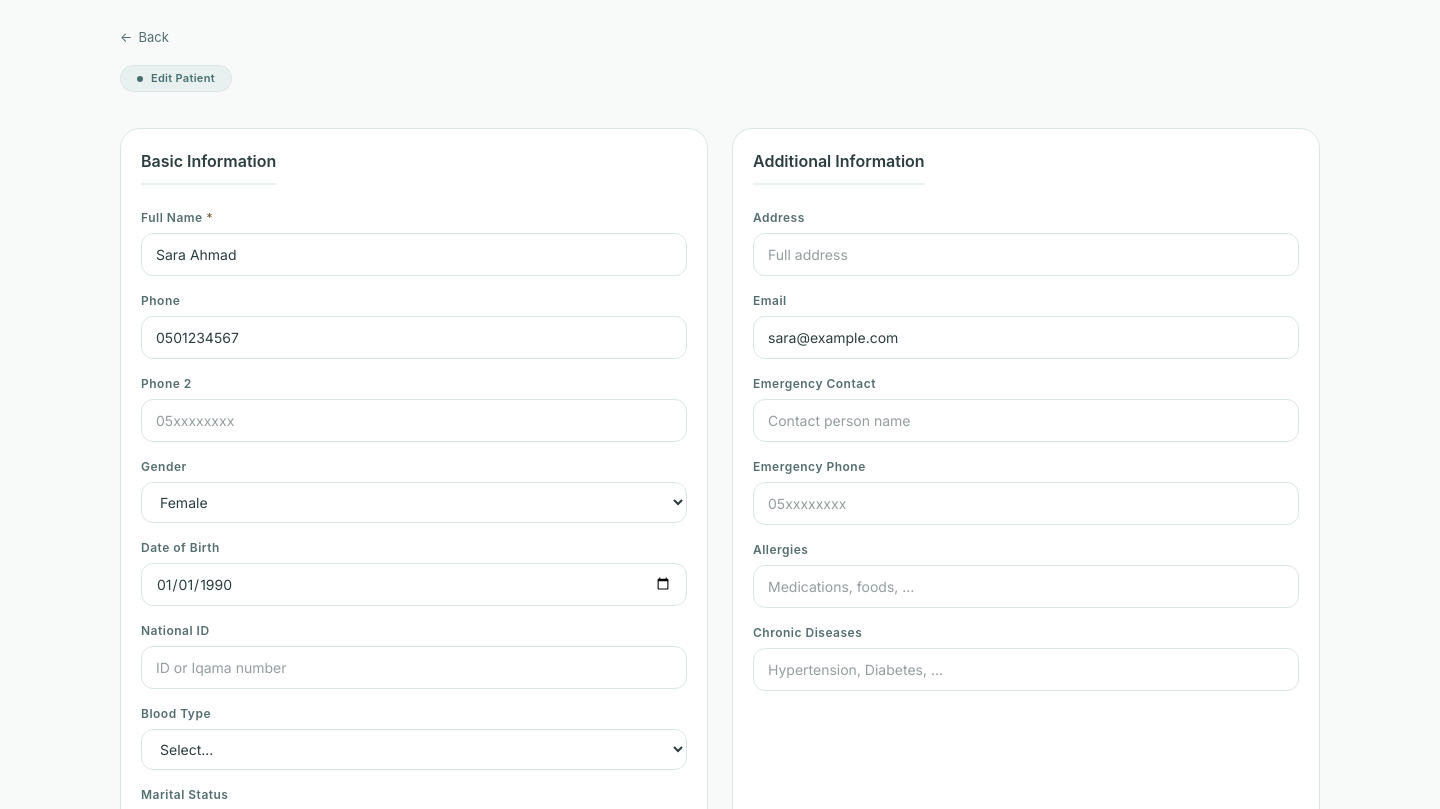
Test: EditPatient › requires a full name before saving
Step 1. Clear the field showing "Sara Ahmad" → (414, 254), box [141, 233, 687, 276]
(page scrolled)
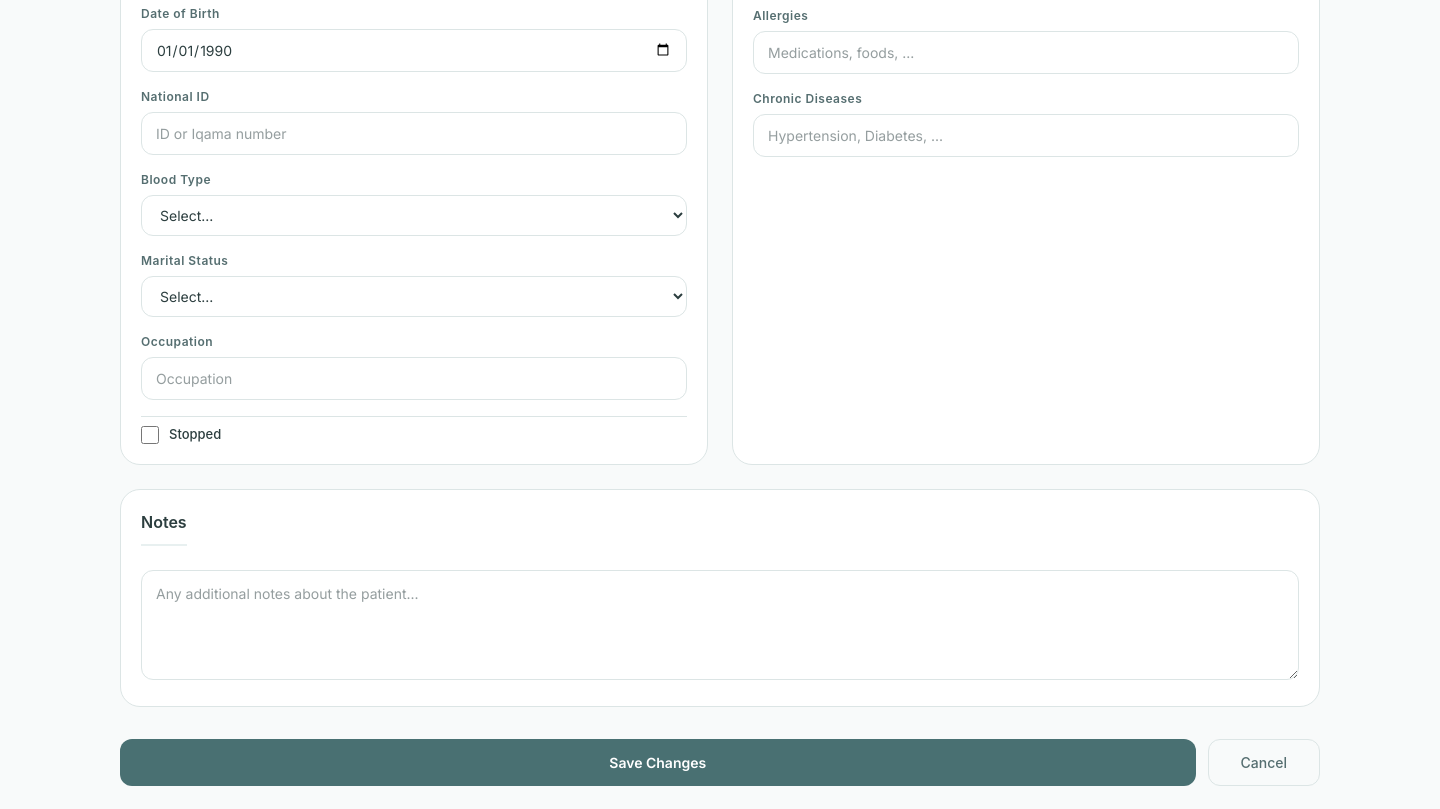
Step 2. Click the button "Save Changes" → (658, 763), box [120, 739, 1196, 786]
(page scrolled)
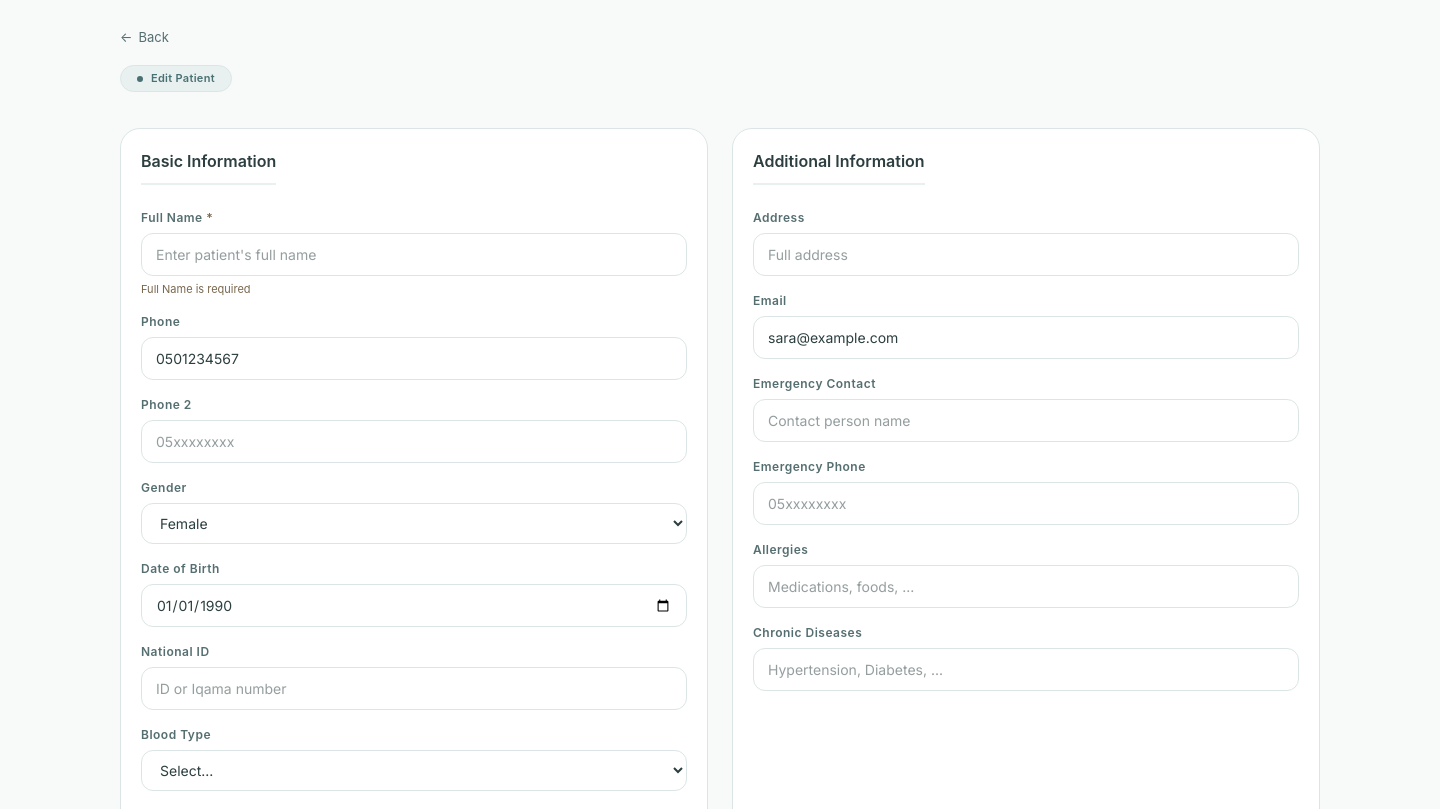
expect the text "Full Name is required" is shown: met, box [141, 282, 251, 296]
